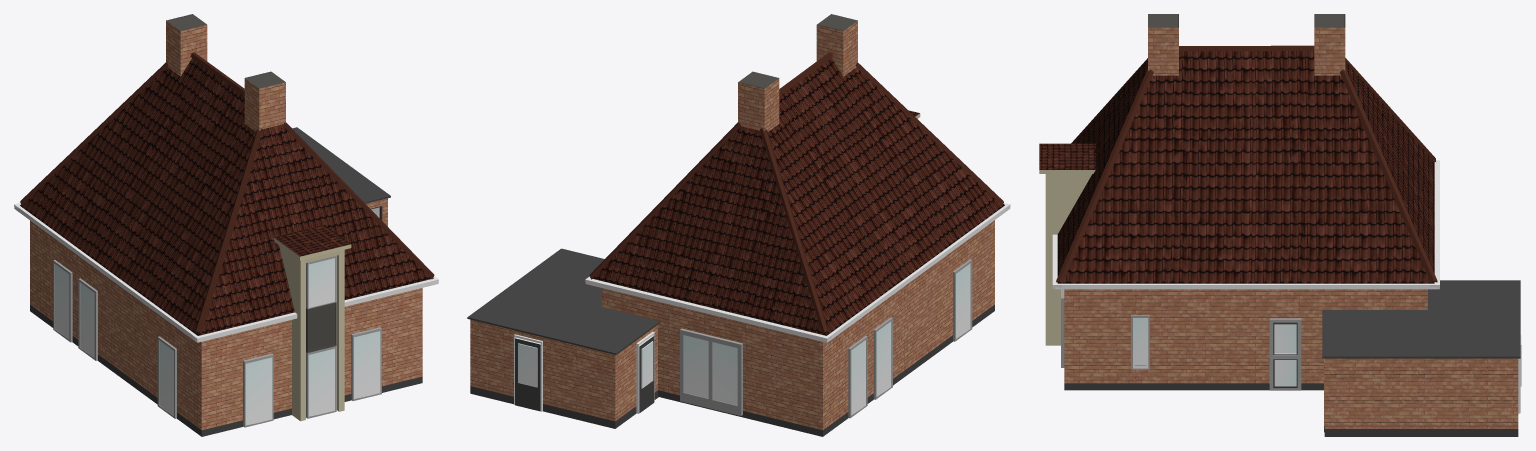
The model's file is Estrik 16.fbx.
3 renders of one model, left to right at view 1: azimuth 30°, elevation 25°; view 2: azimuth 150°, elevation 25°; view 3: azimuth 270°, elevation 25°, orthographic. The views are drawn at different scales.
Visible parts, largest first — view 1: Estrik_16; view 2: Estrik_16; view 3: Estrik_16.
Boxes of the visible parts, x1,y1,x2,y2 form: Estrik_16: [14, 14, 438, 436]; Estrik_16: [467, 14, 1010, 436]; Estrik_16: [1039, 14, 1521, 436].
Size of the model in its own units: 11.96 by 10.55 by 14.71.
Materials: 1 (1 with a texture image).
